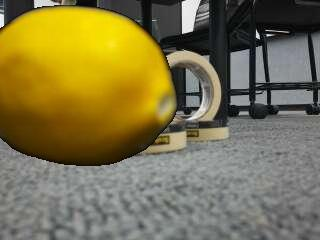lemon: (0, 9, 174, 166)
